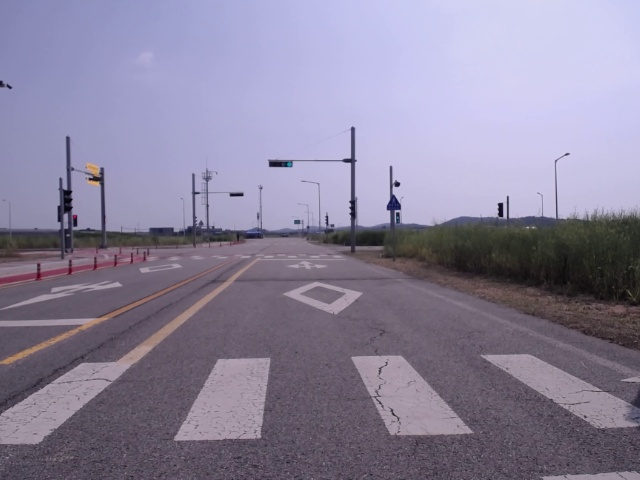straight_green_4: (268, 159, 293, 167)
